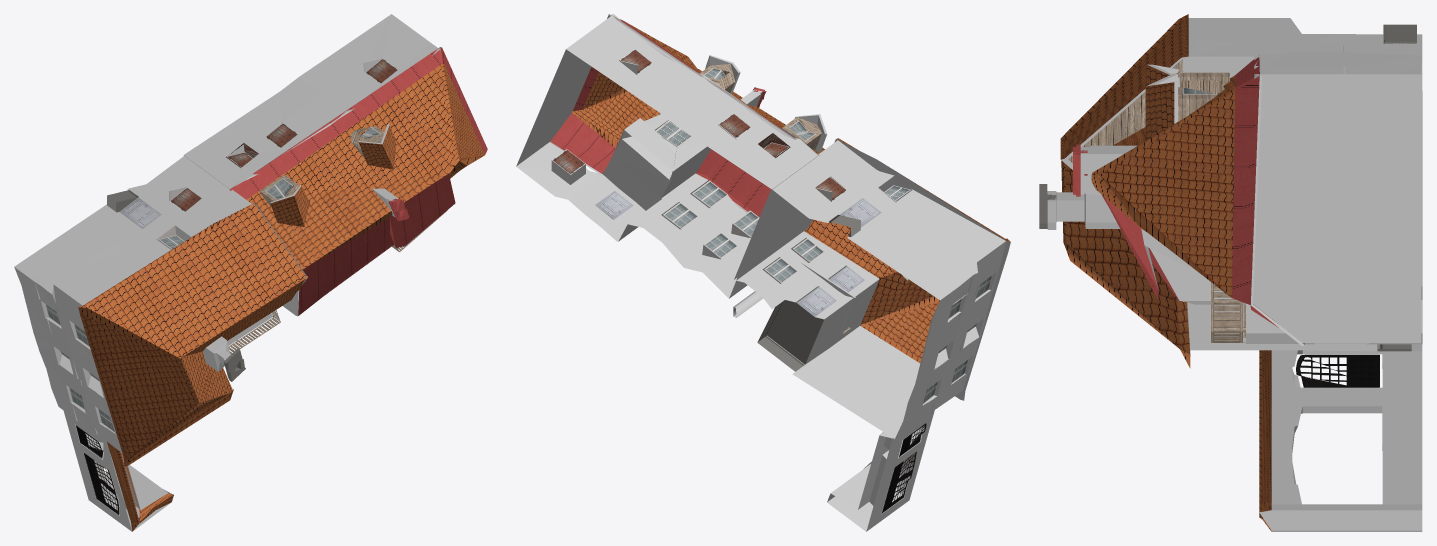
Rendered from Kooli_4-origo.obj.
3 views of the same model, side by side, from view 1: azimuth 30°, elevation 25°; view 2: azimuth 150°, elevation 25°; view 3: azimuth 270°, elevation 25° (orthographic). The views are drawn at different scales.
Parts seen in each view (by area): view 1: Kooli_4; view 2: Kooli_4; view 3: Kooli_4.
Part boxes in pixels (<box>): Kooli_4: <box>14,14,487,531</box>; Kooli_4: <box>516,14,1010,531</box>; Kooli_4: <box>1039,14,1422,531</box>.
Size of the model in its own units: 22.62 by 20.5 by 9.99.
